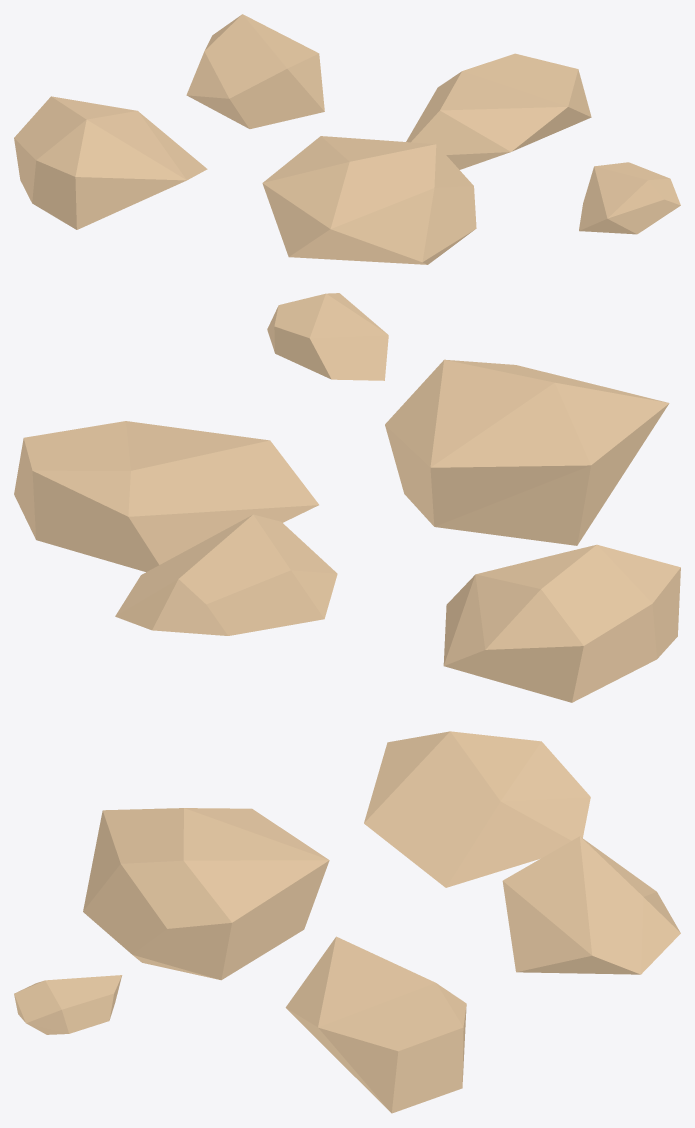
The model's file is rocks-small.glb.
The picture shows the model from 3 angles, top to bottom: view 1: azimuth 30°, elevation 25°; view 2: azimuth 150°, elevation 25°; view 3: azimuth 270°, elevation 25°; orthographic projection. The views are drawn at different scales.
Parts seen in each view (by area): view 1: rocks-small; view 2: rocks-small; view 3: rocks-small.
Boxes of the visible parts, bbox=[...] form: rocks-small: bbox=[14, 14, 680, 264]; rocks-small: bbox=[14, 293, 680, 702]; rocks-small: bbox=[14, 731, 680, 1113].
Bounding box in the file's own units: 1.11 × 0.2415 × 1.05.
Materials: 1 (1 with a texture image).
